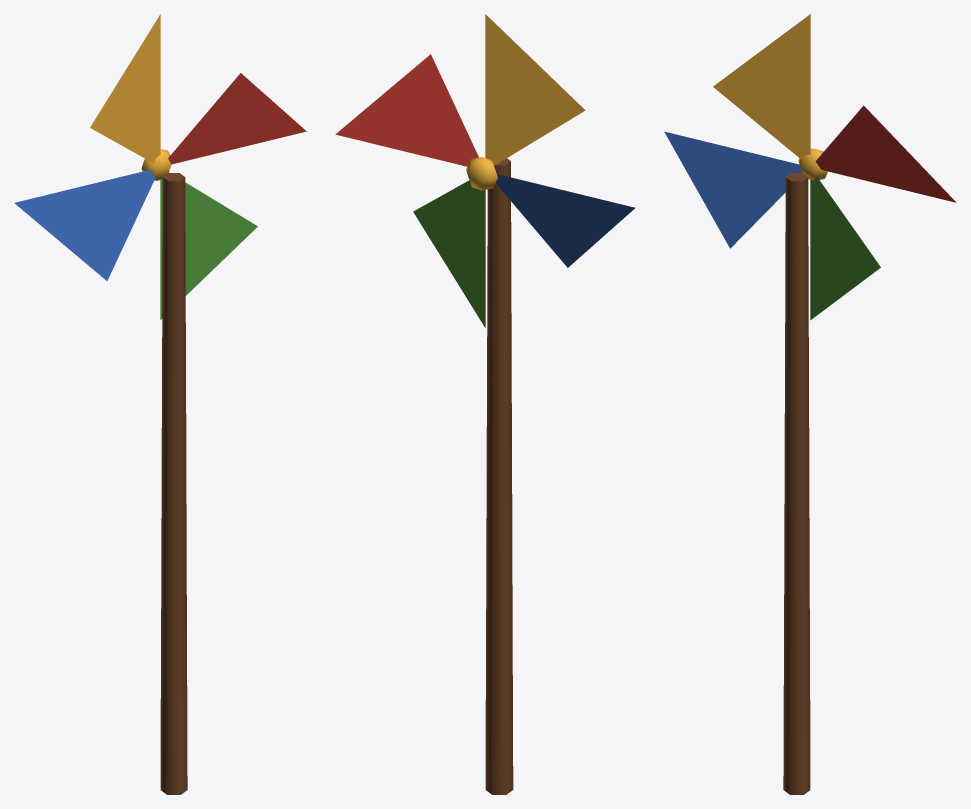
Rendered from Pinwheel.glb.
3 renders of one model, left to right at view 1: azimuth 30°, elevation 25°; view 2: azimuth 150°, elevation 25°; view 3: azimuth 330°, elevation 25°, orthographic. The views are drawn at different scales.
Parts seen in each view (by area): view 1: Pinwheel, Body; view 2: Pinwheel, Body; view 3: Pinwheel, Body.
Boxes of the visible parts, box(x1,y1,x2,y2) form: Pinwheel: box(14, 14, 306, 319); Body: box(160, 173, 187, 794); Pinwheel: box(335, 14, 635, 327); Body: box(485, 158, 513, 794); Pinwheel: box(664, 14, 956, 320); Body: box(783, 173, 810, 794).
Size of the model in its own units: 1.5 by 3.75 by 0.262.
Materials: 2 (2 with a texture image).
